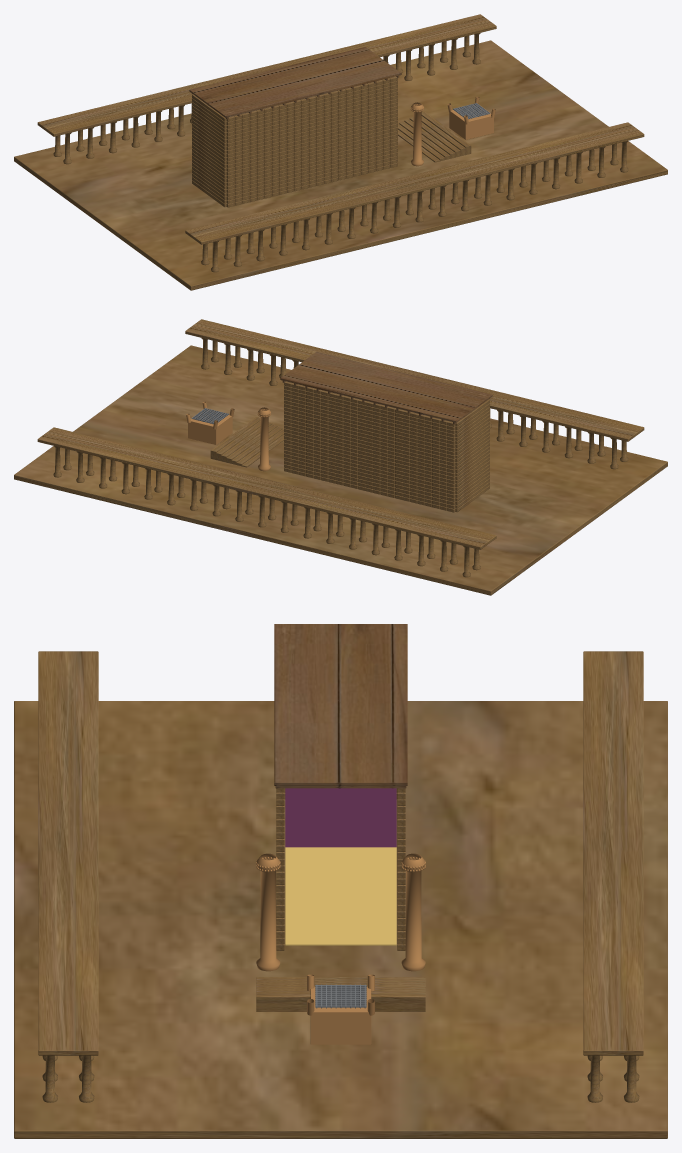
The model's file is segundo_templo.glb.
3 renders of one model, top to bottom at view 1: azimuth 30°, elevation 25°; view 2: azimuth 150°, elevation 25°; view 3: azimuth 270°, elevation 25°, orthographic. The views are drawn at different scales.
Visible parts, largest first — view 1: Plataforma, Entablamento do recinto, Cobertura de cedro, Entablamento do recinto.001, Altar, Coluna do pórtico; view 2: Plataforma, Entablamento do recinto.001, Cobertura de cedro, Entablamento do recinto, Altar, Coluna do pórtico.001; view 3: Plataforma, Entablamento do recinto, Entablamento do recinto.001, Cobertura de cedro, Interior dourado, Véu do santuário, Altar, Degrau.006, Coluna do pórtico, Coluna do pórtico.001.
Part boxes in pixels (left/top/right/bottom): Plataforma: left=14, top=40, right=667, bottom=290; Entablamento do recinto: left=185, top=122, right=644, bottom=244; Cobertura de cedro: left=189, top=47, right=401, bottom=117; Entablamento do recinto.001: left=37, top=14, right=496, bottom=136; Altar: left=449, top=105, right=493, bottom=139; Coluna do pórtico: left=411, top=102, right=423, bottom=166; Plataforma: left=14, top=345, right=667, bottom=595; Entablamento do recinto.001: left=37, top=427, right=496, bottom=549; Cobertura de cedro: left=280, top=352, right=492, bottom=422; Entablamento do recinto: left=185, top=319, right=644, bottom=441; Altar: left=188, top=410, right=232, bottom=444; Coluna do pórtico.001: left=258, top=407, right=270, bottom=471; Plataforma: left=14, top=701, right=667, bottom=1138; Entablamento do recinto: left=38, top=651, right=98, bottom=1055; Entablamento do recinto.001: left=583, top=651, right=643, bottom=1055; Cobertura de cedro: left=274, top=624, right=407, bottom=785; Interior dourado: left=285, top=847, right=396, bottom=945; Véu do santuário: left=285, top=788, right=396, bottom=847; Altar: left=310, top=986, right=371, bottom=1044; Degrau.006: left=256, top=992, right=425, bottom=1011; Coluna do pórtico: left=256, top=853, right=280, bottom=971; Coluna do pórtico.001: left=401, top=853, right=425, bottom=971.
Bounding box in the file's own units: 84 × 16.4 × 54.
Materials: 6 (2 with a texture image).
